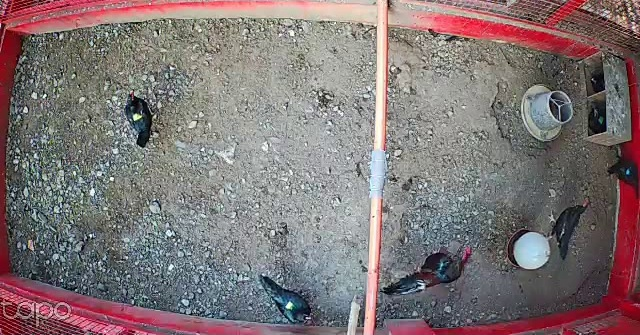Chicken: (253, 270, 319, 327), (541, 190, 592, 261), (116, 89, 157, 147), (601, 152, 640, 208)
Rooster: (383, 246, 474, 301)
Saddle_Color_Blue: (625, 169, 632, 176)
Saddle_Color_Yellow: (132, 112, 145, 121)
